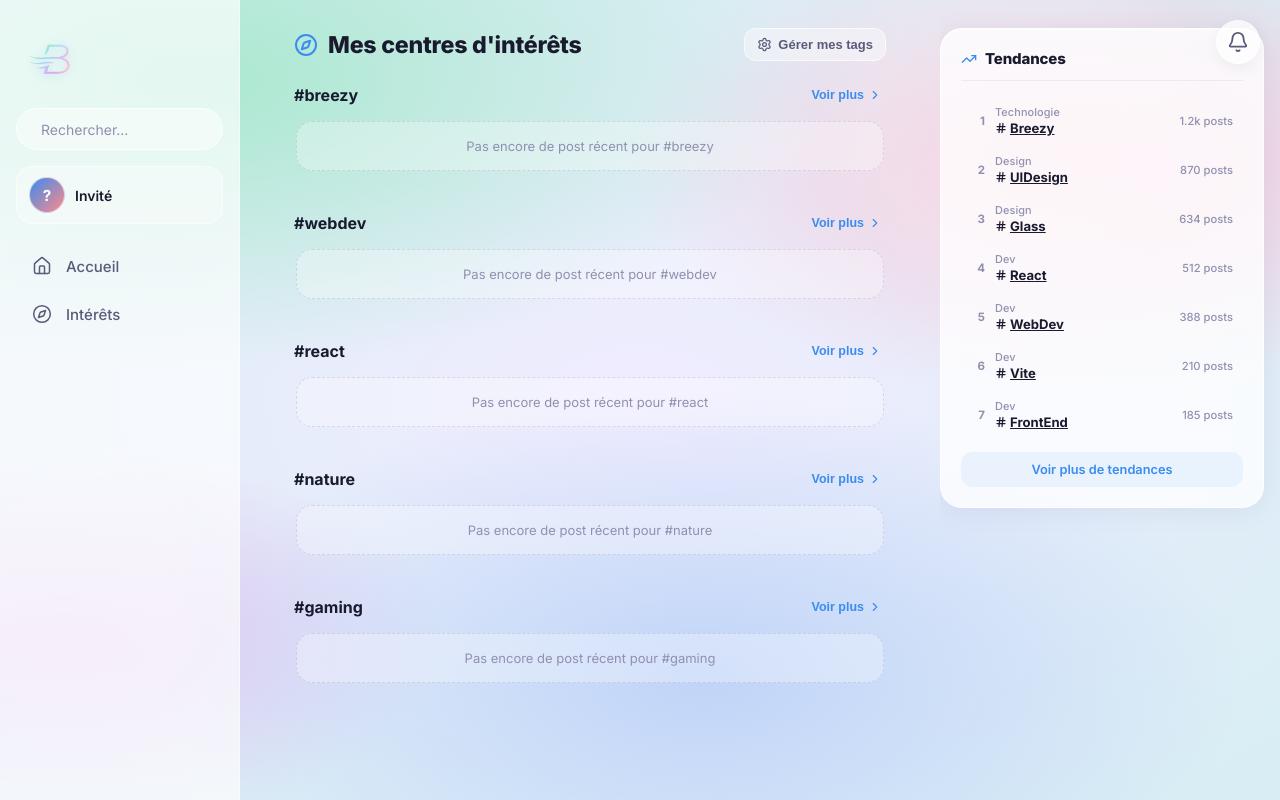
Test case: InterestsPage › permet d'ouvrir le tiroir de gestion et d'ajouter/supprimer des tags
The width and height of the screenshot is (1280, 800).
Click the button "Gérer mes tags" at (815, 44), box [744,28,886,61]
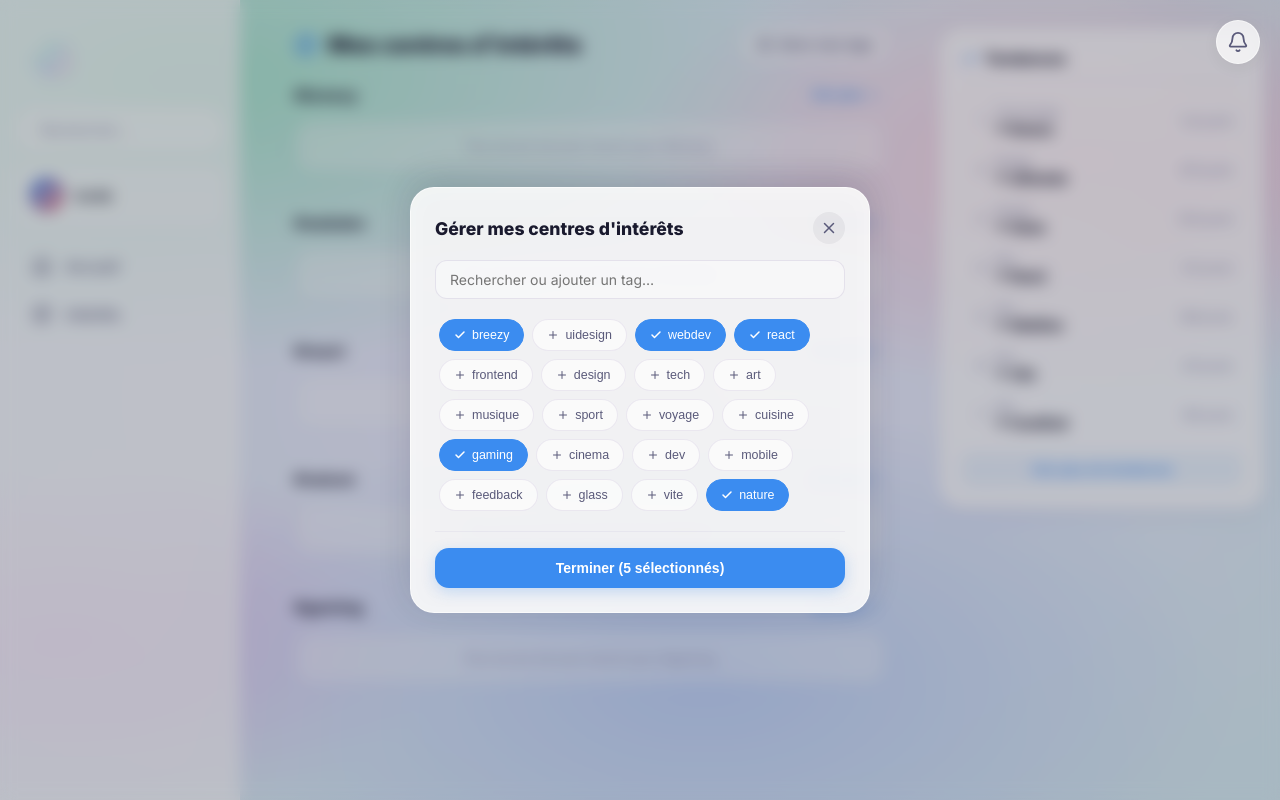
Result: the heading "Gérer mes centres d'intérêts" is shown at [435,218,684,238]
Result: the button "art" is shown
Click the button "art" at (744, 375), box [713,359,776,391]
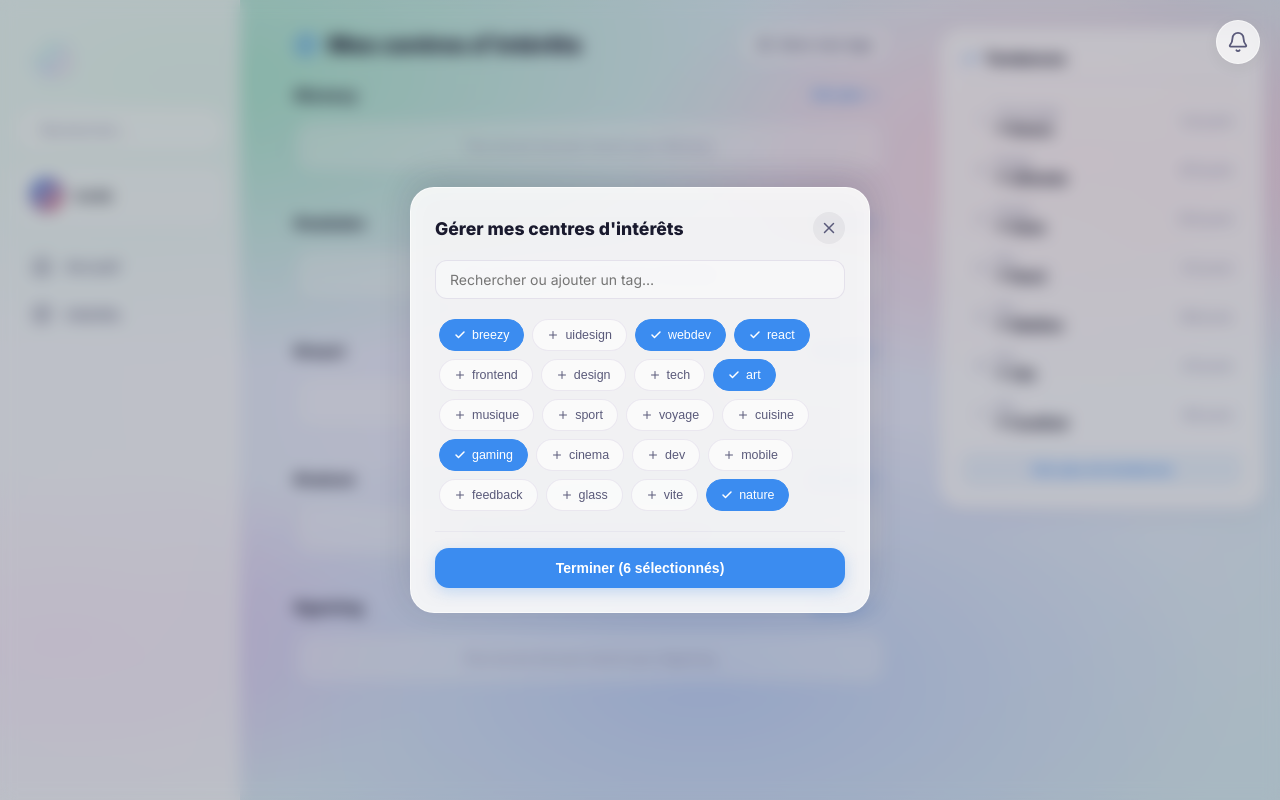
Click the button "Terminer (6 sélectionnés)" at (640, 568), box [435,548,845,588]
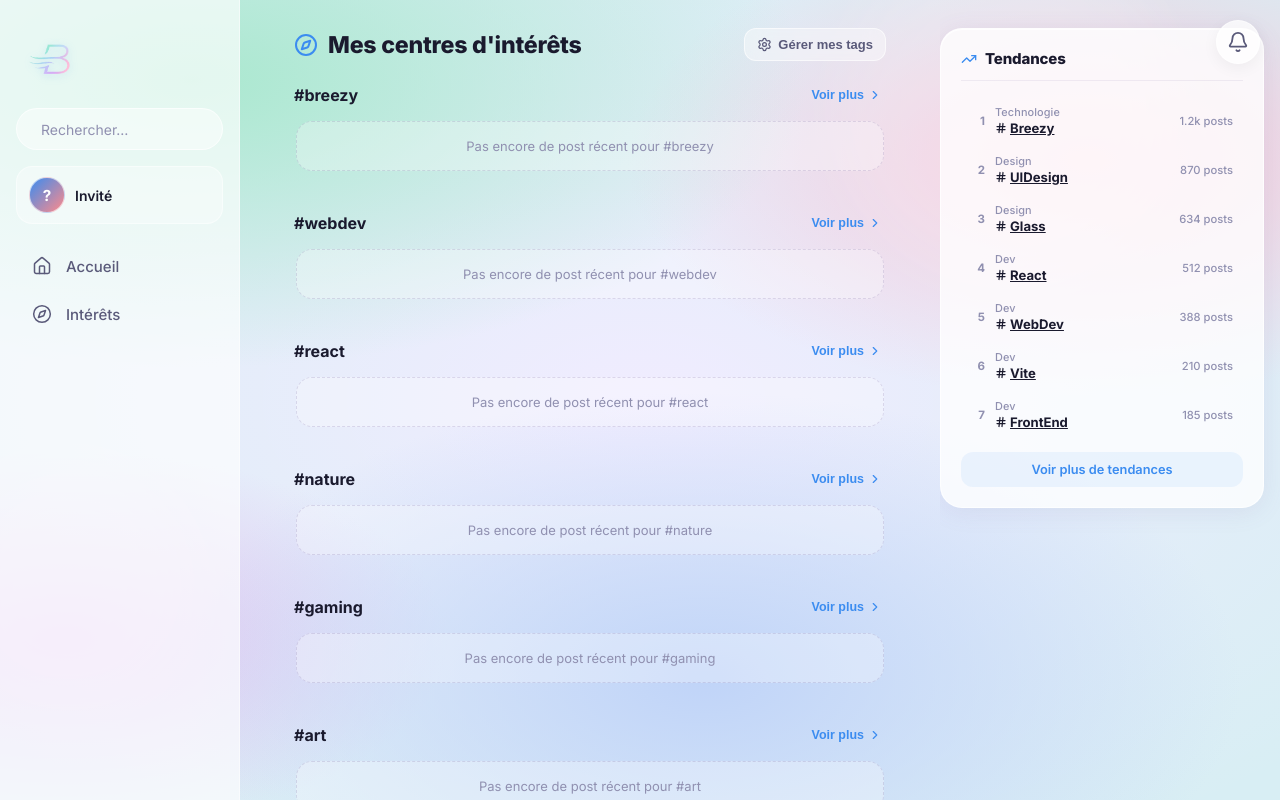
Result: the heading "Gérer mes centres d'intérêts" is gone
Result: the heading "#art" is shown at [294,725,326,745]
